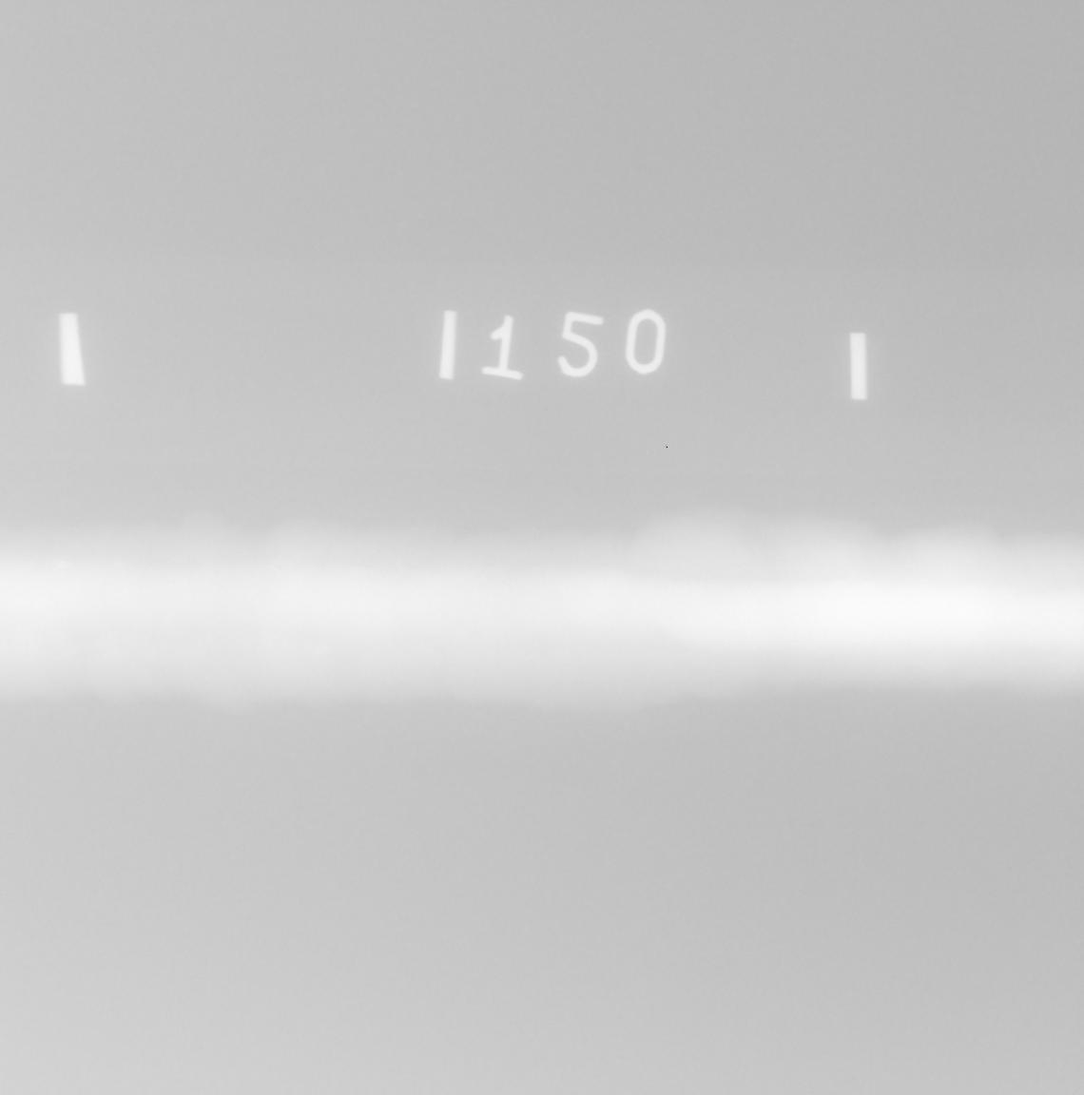Inclusion: (275, 566, 286, 570)
